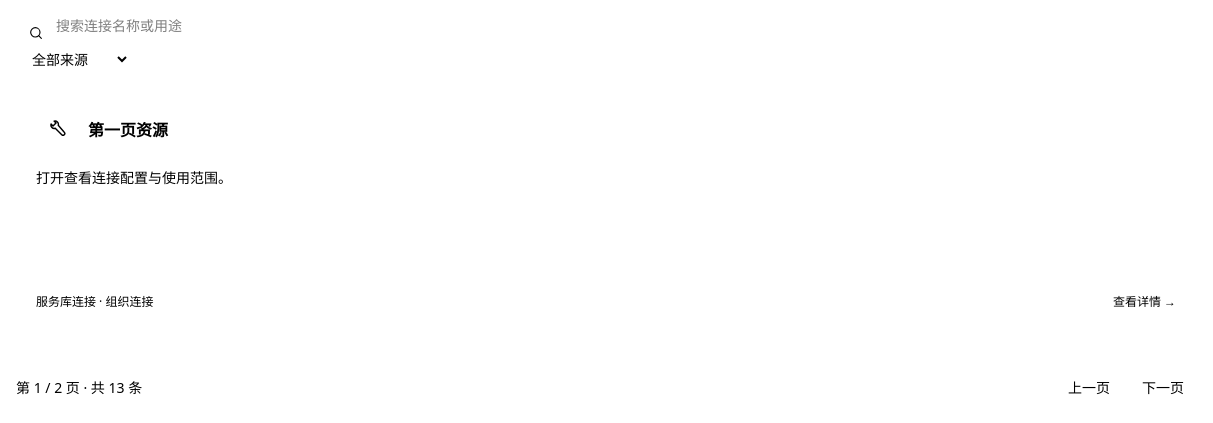
Test: mcps uses server pagination and resets search to page one
The width and height of the screenshot is (1213, 423).
Expected: the heading "第一页资源" is shown, [88,119,168,141]
Expected: the text "第 1 / 2 页 · 共 13 条" is shown, [16,378,142,398]
Click the button "下一页" at point(1163, 388), box [1130,370,1196,406]
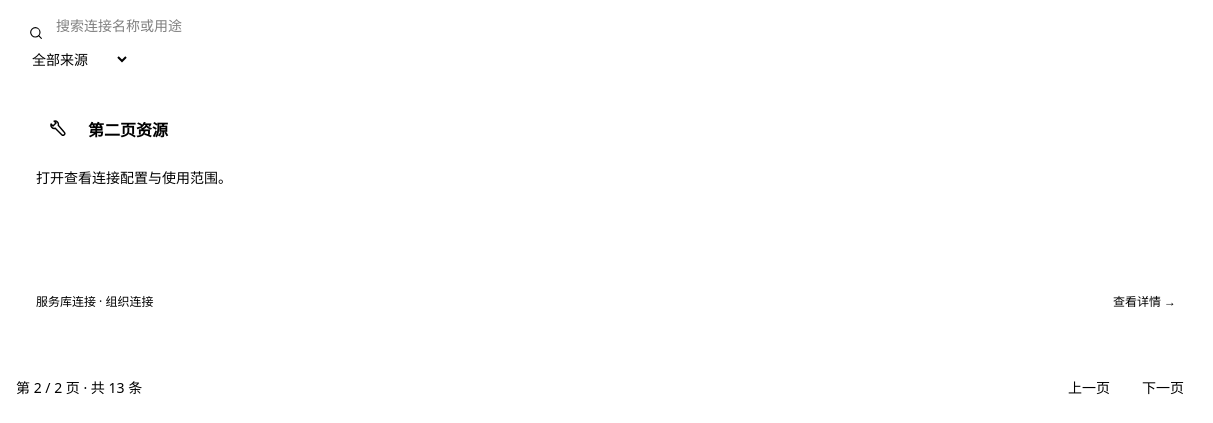
Now the heading "第二页资源" is shown, box [88,119,168,141]
Type "报告" into the field named "搜索已配置连接" at point(606, 26), box [16,16,1196,36]
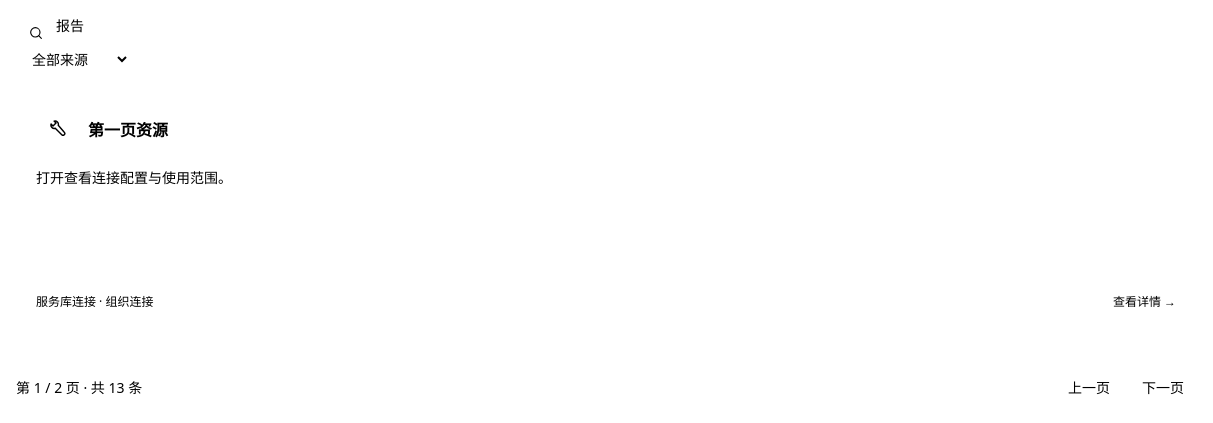
Now the heading "第一页资源" is shown, box [88,119,168,141]
Click the button "下一页" at point(1163, 388), box [1130,370,1196,406]
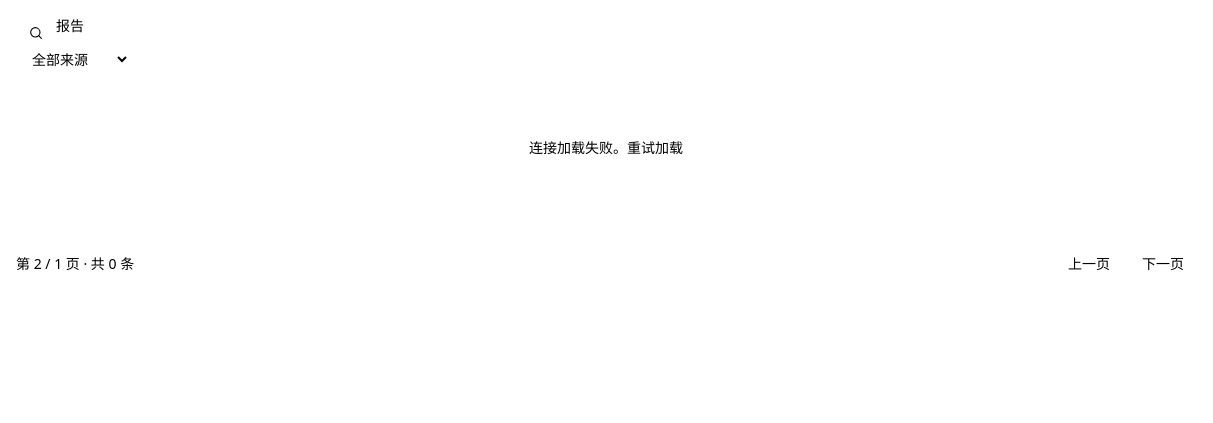
Now the message "连接加载失败。 重试加载" is shown, box [529,138,683,158]
Click the button "重试加载" at point(655, 148), box [627,138,683,158]
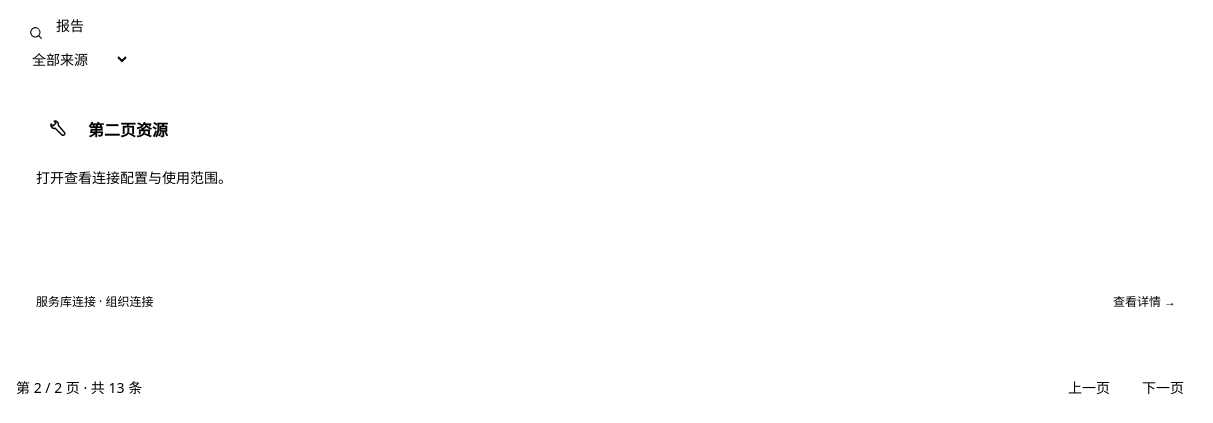
Now the heading "第二页资源" is shown, box [88,119,168,141]
